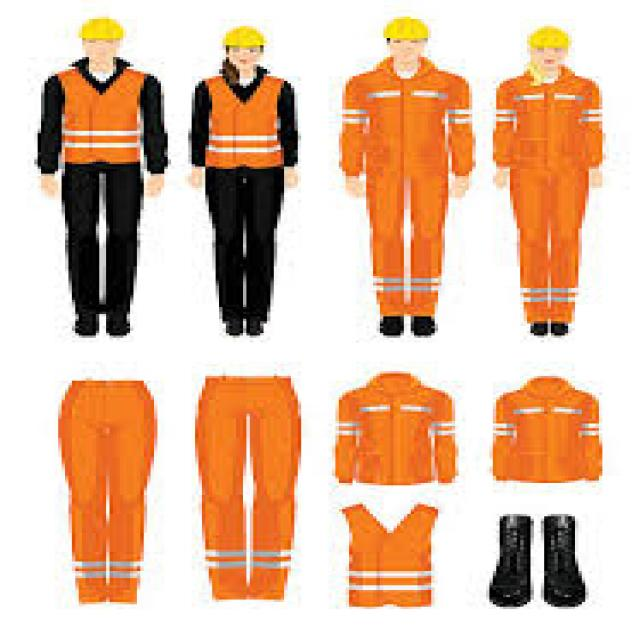Reflective-Jacket: (325, 371, 466, 495), (339, 64, 476, 176), (483, 378, 609, 490), (328, 497, 445, 614), (489, 69, 606, 176), (48, 64, 154, 169), (195, 74, 291, 174)
Safety-Helmet: (376, 14, 434, 43), (520, 22, 575, 52), (216, 24, 270, 50), (75, 14, 127, 40)
